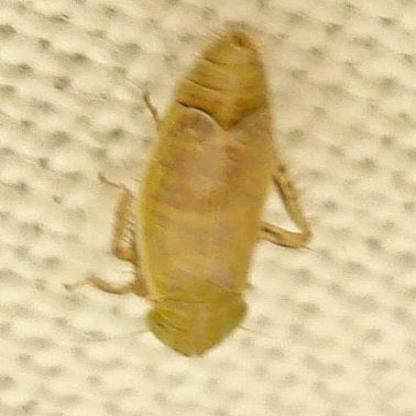green-leafhopper: (130, 26, 326, 350)
